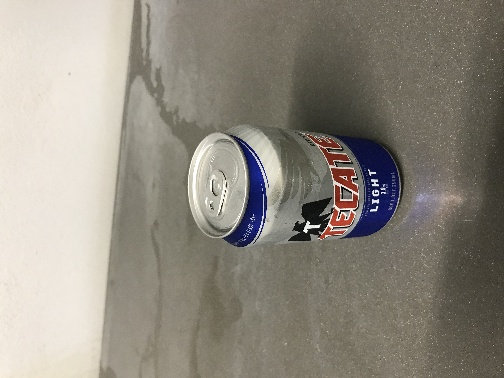TLL: (201, 95, 279, 176)
